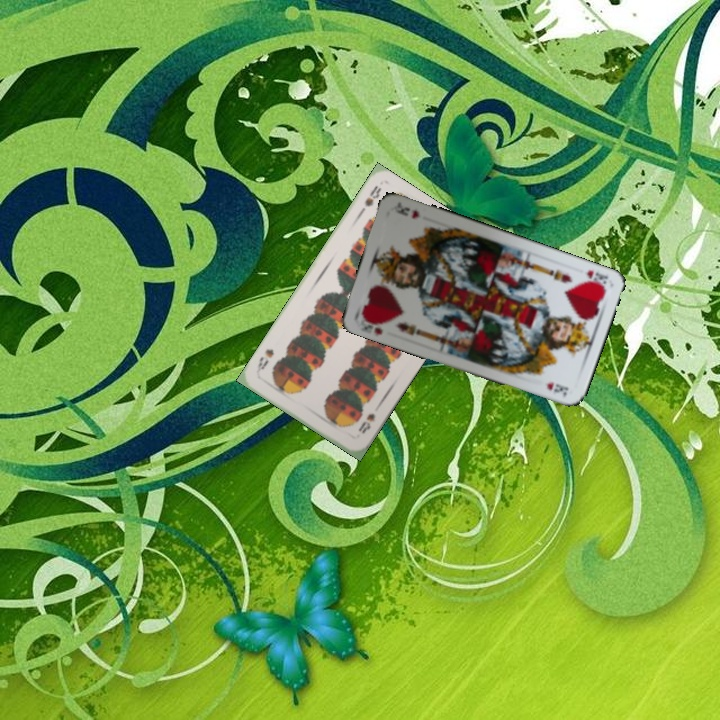HK: (582, 266, 611, 290), (360, 320, 385, 338)
S8: (355, 181, 384, 217), (354, 409, 378, 436)
